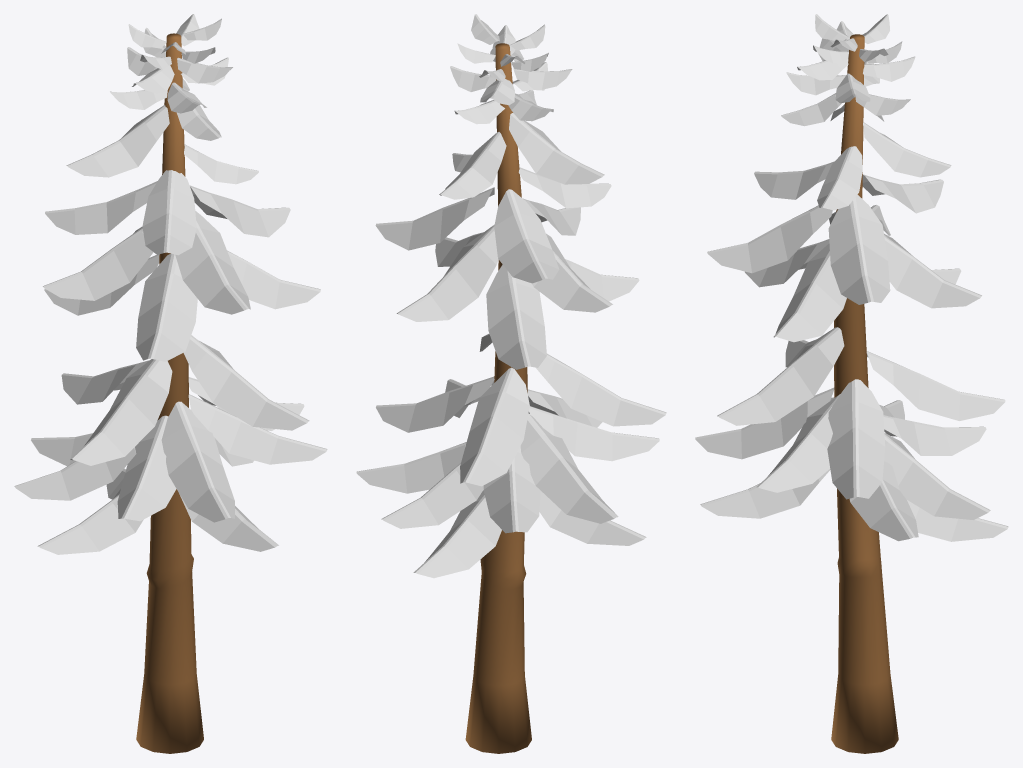
File: Tree_02.glb
3 renders of one model, left to right at view 1: azimuth 30°, elevation 25°; view 2: azimuth 150°, elevation 25°; view 3: azimuth 270°, elevation 25°, orthographic. The views are drawn at different scales.
Visible parts, largest first — view 1: Plane.012, Plane.013, Cylinder.087, Plane.011, Plane.014, Plane.016, Plane.015; view 2: Plane.012, Plane.013, Plane.011, Cylinder.087, Plane.014, Plane.016, Plane.015; view 3: Plane.012, Plane.013, Cylinder.087, Plane.011, Plane.014, Plane.016, Plane.015.
Boxes of the visible parts, bbox=[...] form: Plane.012: bbox=[14, 335, 309, 522]; Plane.013: bbox=[43, 185, 320, 361]; Cylinder.087: bbox=[136, 33, 203, 753]; Plane.011: bbox=[31, 394, 327, 554]; Plane.014: bbox=[45, 105, 258, 255]; Plane.016: bbox=[110, 47, 232, 113]; Plane.015: bbox=[128, 14, 221, 69]; Plane.012: bbox=[376, 334, 666, 528]; Plane.013: bbox=[375, 187, 639, 369]; Plane.011: bbox=[356, 379, 659, 578]; Cylinder.087: bbox=[465, 43, 531, 753]; Plane.014: bbox=[439, 90, 611, 283]; Plane.016: bbox=[450, 48, 572, 124]; Plane.015: bbox=[457, 14, 548, 81]; Plane.012: bbox=[695, 327, 1005, 519]; Plane.013: bbox=[707, 194, 981, 342]; Cylinder.087: bbox=[831, 34, 898, 753]; Plane.011: bbox=[700, 394, 1008, 541]; Plane.014: bbox=[754, 93, 951, 213]; Plane.016: bbox=[786, 38, 915, 115]; Plane.015: bbox=[813, 14, 902, 63].
Size of the model in its own units: 5.26 by 13.45 by 5.32.
